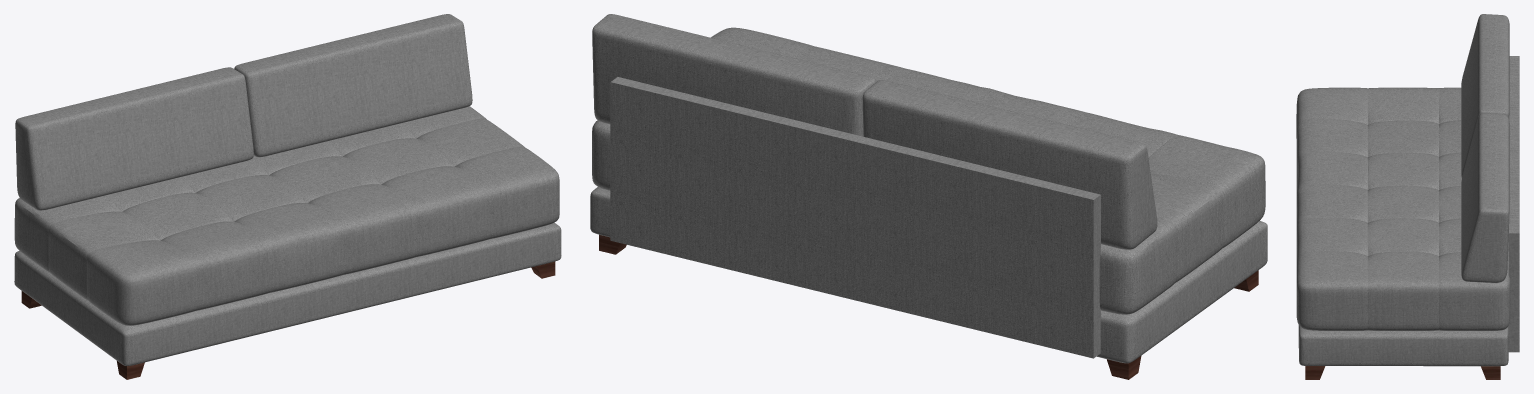
3 views of the same model, side by side, from view 1: azimuth 30°, elevation 25°; view 2: azimuth 150°, elevation 25°; view 3: azimuth 270°, elevation 25° (orthographic). The views are drawn at different scales.
Parts seen in each view (by area): view 1: C-skpDF8C, xcm_back; view 2: C-skpDF8C, xcm_back; view 3: C-skpDF8C, xcm_back.
Boxes of the visible parts, bbox=[...] form: C-skpDF8C: bbox=[14, 106, 561, 379]; xcm_back: bbox=[15, 14, 472, 210]; C-skpDF8C: bbox=[590, 27, 1267, 379]; xcm_back: bbox=[592, 14, 1157, 249]; C-skpDF8C: bbox=[1296, 56, 1519, 379]; xcm_back: bbox=[1461, 14, 1509, 282].
Bounding box in the file's own units: 1.98 × 0.7898 × 0.9324.
2 materials, 2 textured.
